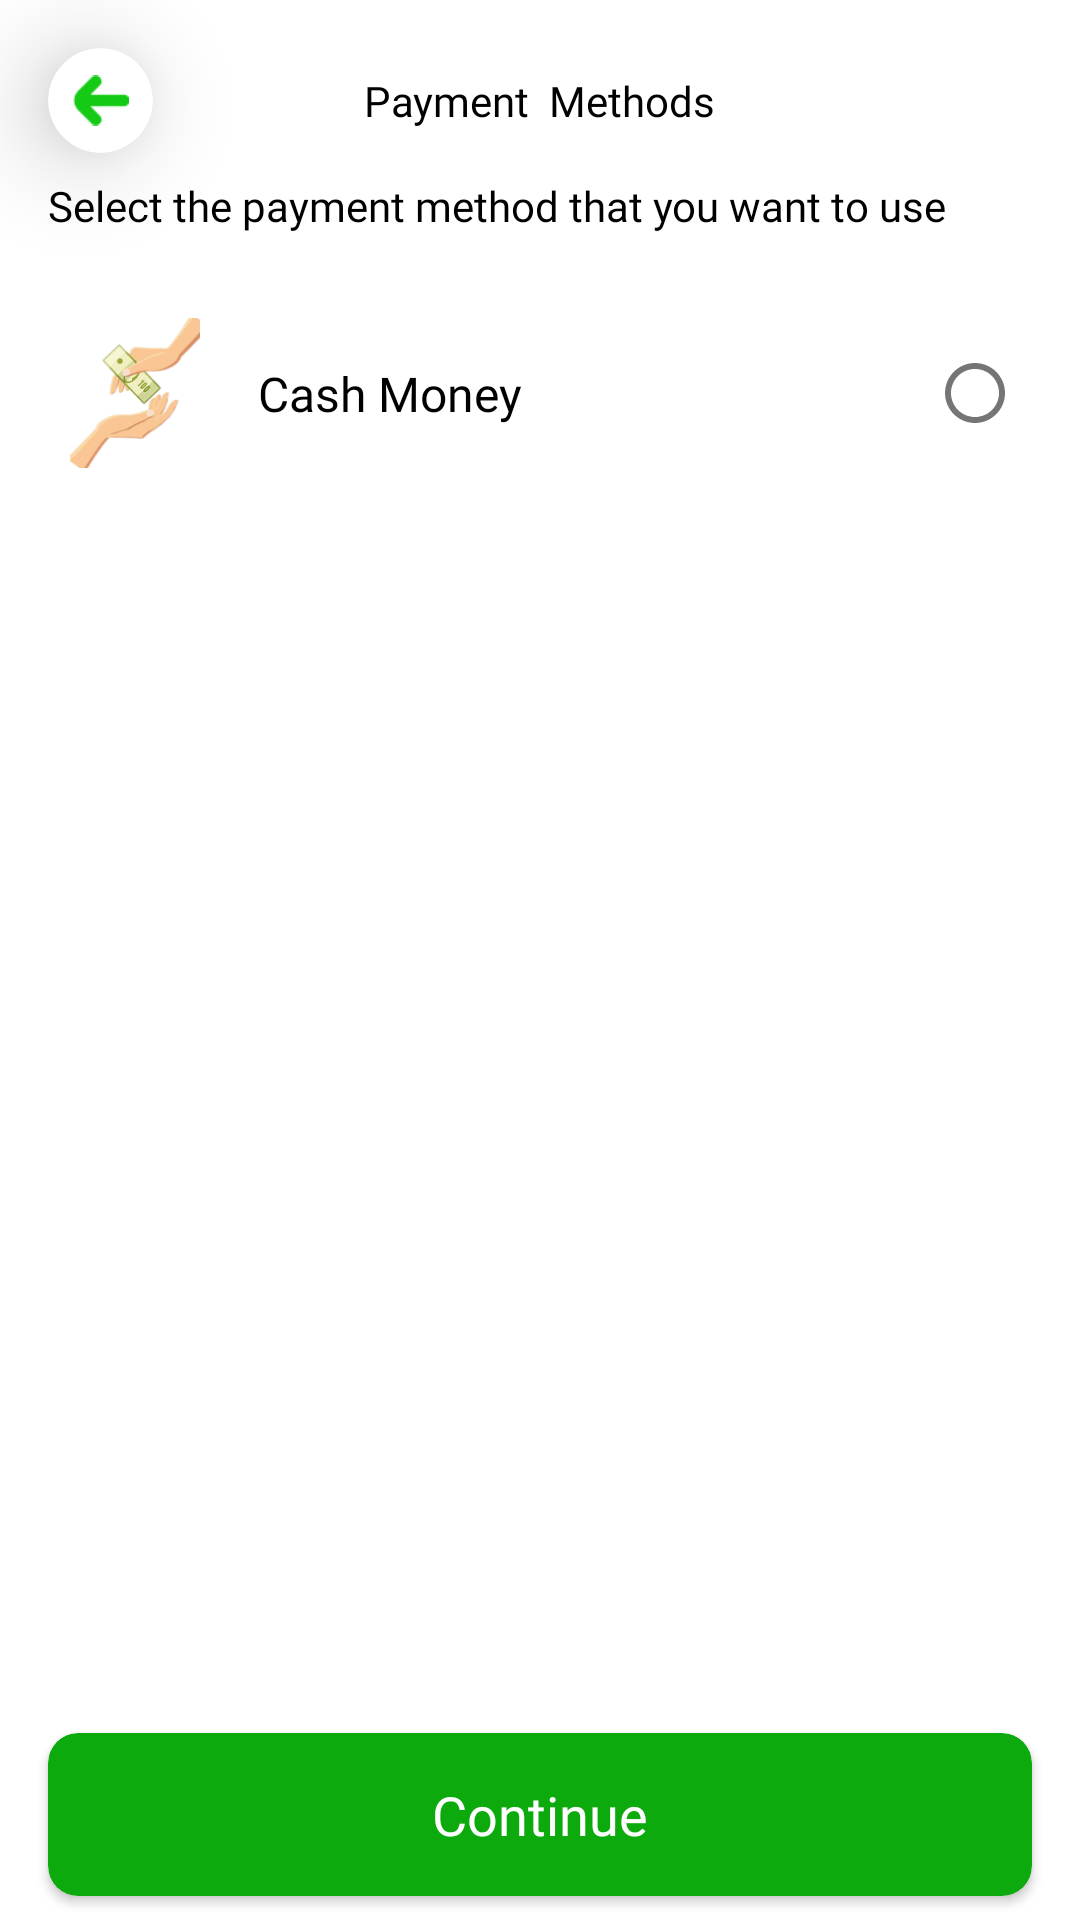

Named icons in this screenshot (1080px×1920px) and their centers, [x,y]:
arrow back: [100,100]
